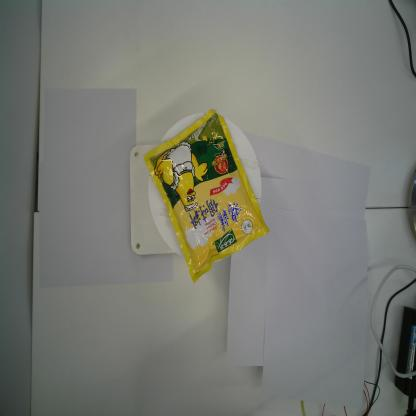Seasoner: (140, 109, 272, 288)
